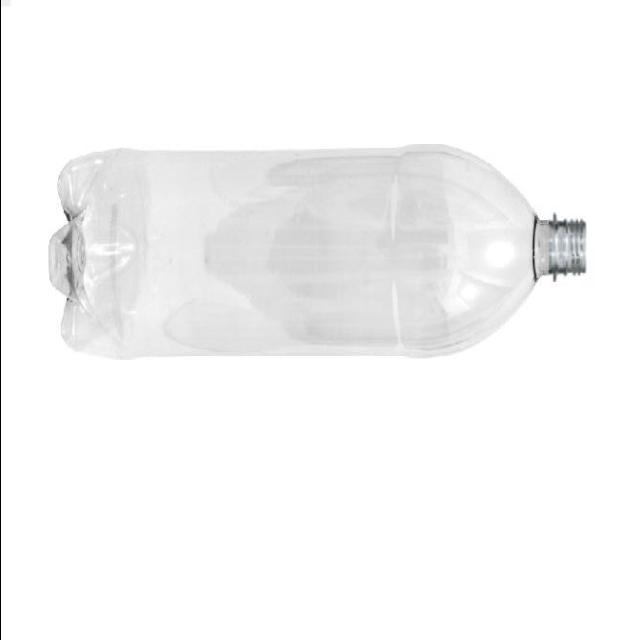bottom: (34, 114, 141, 391)
no_cap: (532, 202, 590, 296)
